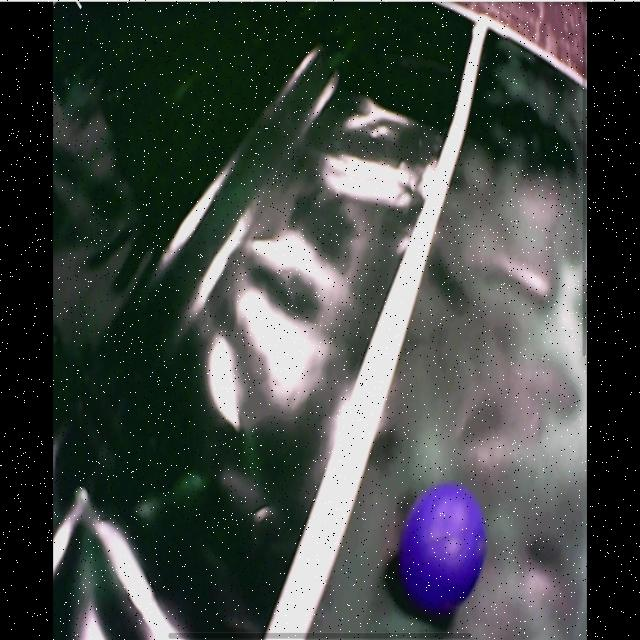ball: (403, 486, 489, 612)
